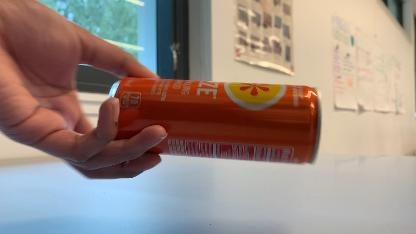Can: (95, 76, 329, 176)
